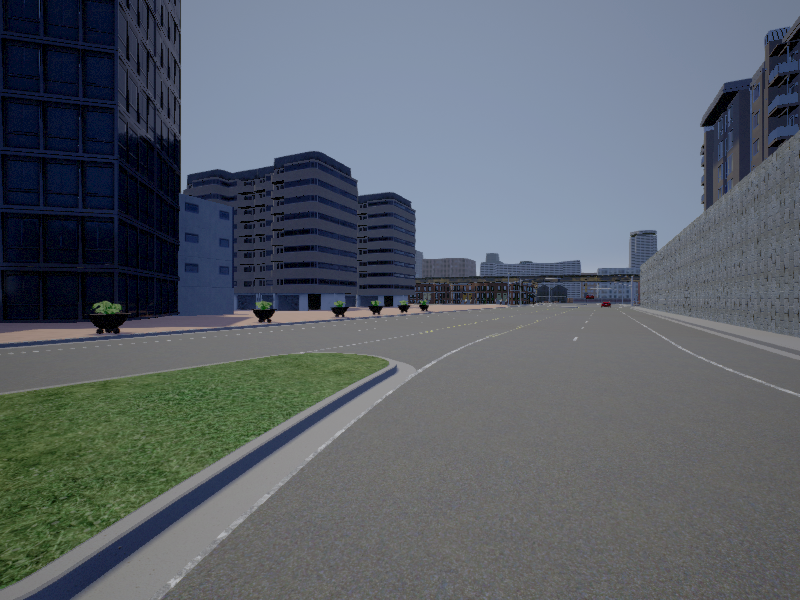Attacker: (584, 292, 595, 299)
Benign: (601, 301, 613, 309)
